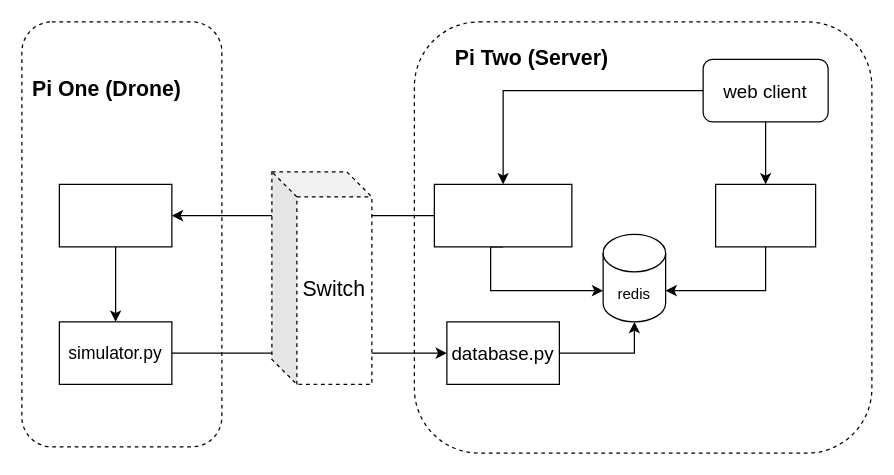
Image size: 894x475. Some labels were removed from this diagram. Each missing label, with the centre of its shape:
"build.py" belongs at [765,215].
"drone.py" belongs at [115,215].
"route_planner.py" belongs at [502,215].
